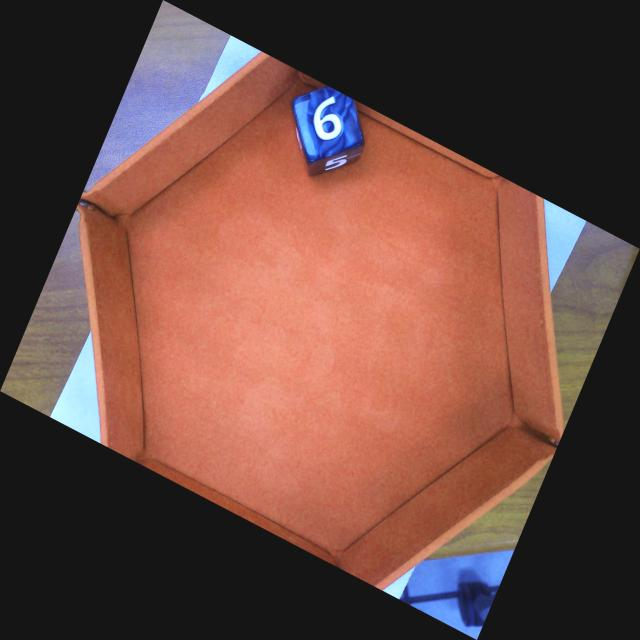dice: (291, 79, 367, 169)
